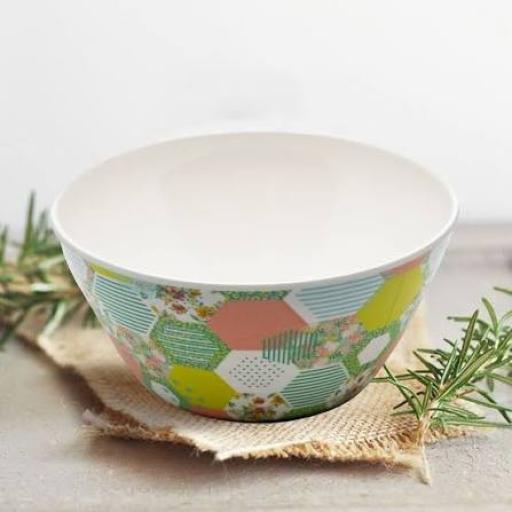Bowl: (52, 133, 457, 422)
